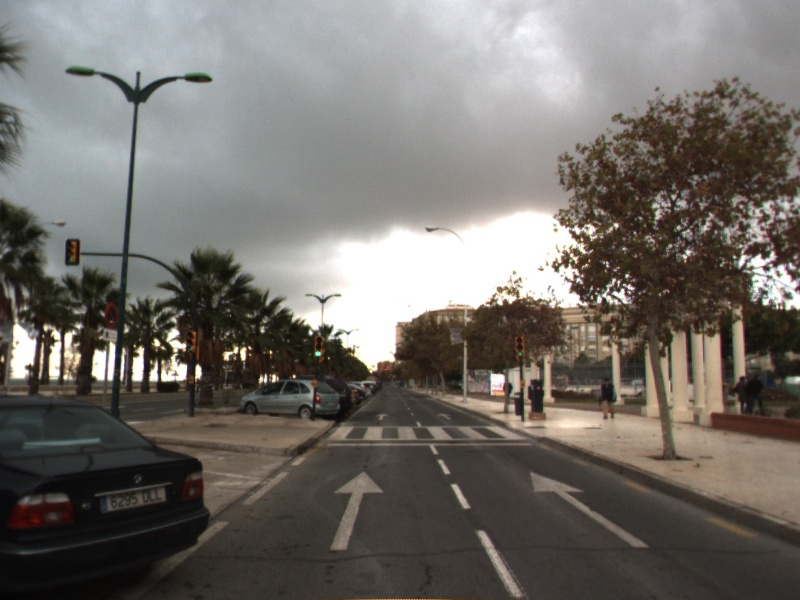STRAIGHT: (529, 471, 651, 549), (328, 469, 385, 551), (435, 412, 454, 421), (374, 412, 390, 422)
